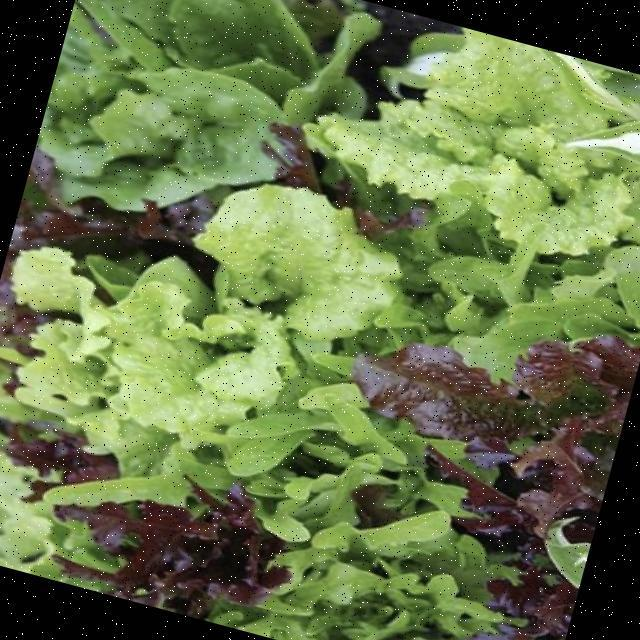healthy: (295, 11, 640, 316), (20, 241, 362, 497), (31, 0, 334, 247)
